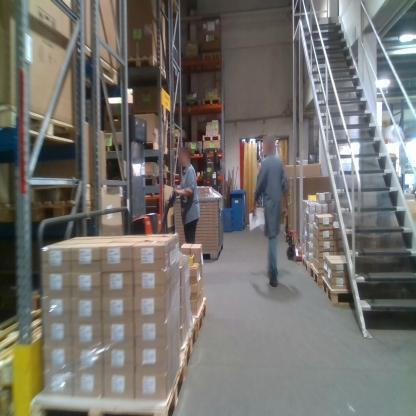pallets: (30, 301, 209, 416), (0, 105, 81, 152), (300, 256, 355, 309), (189, 94, 224, 107), (201, 134, 223, 145)
